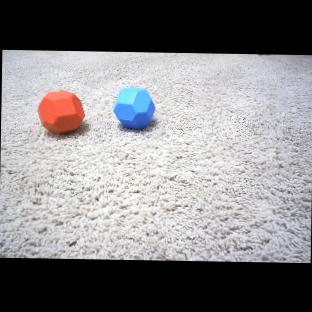V5_BLUE: (112, 86, 158, 131)
V5_RED: (37, 86, 87, 137)
